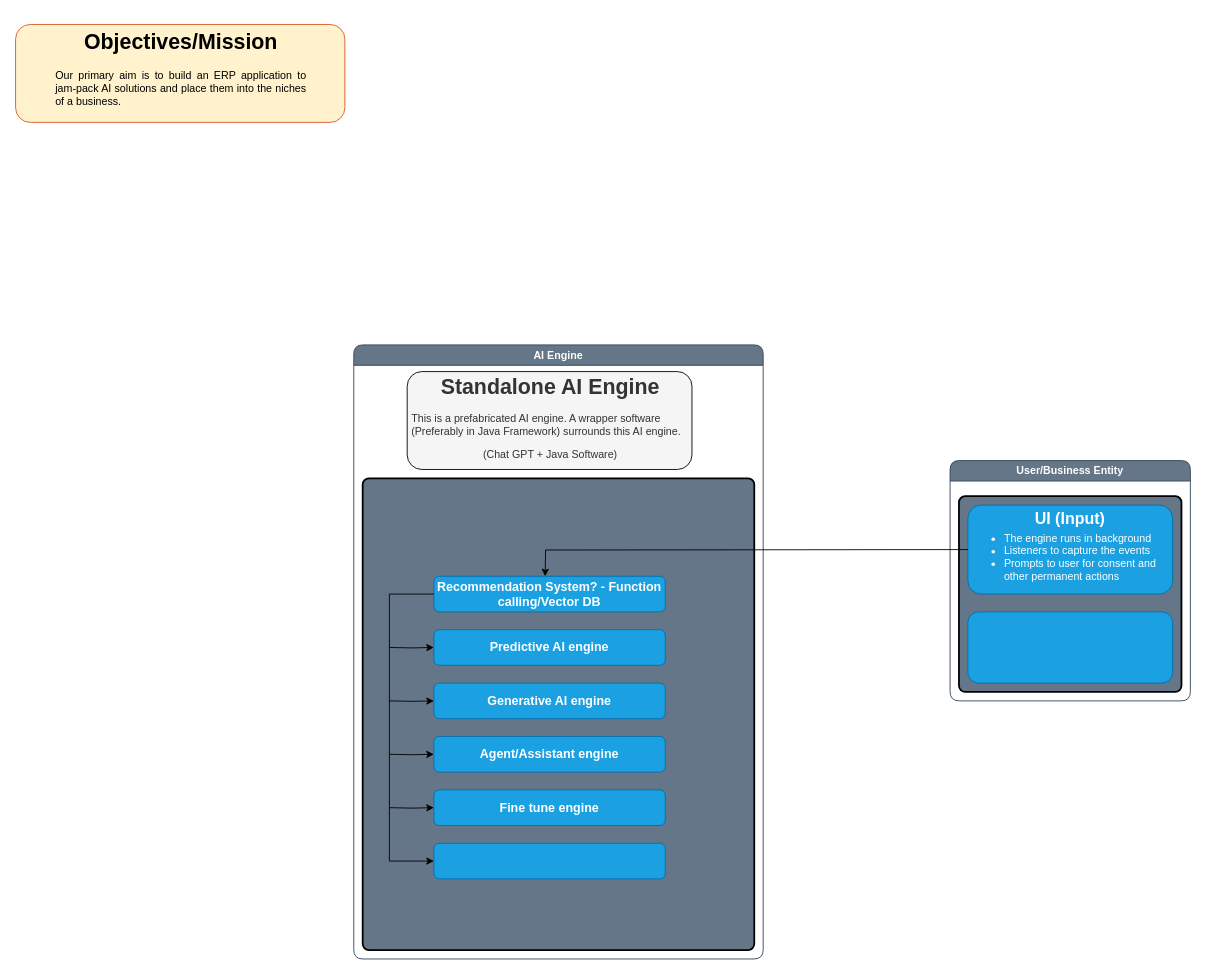
Image size: 1206x975. Some labels were removed from this diagram. Each missing label, with the centre of its shape:
"UI (Output) Text Voice Video" belongs at pixel 1070 647.
"Vector DB?" belongs at pixel 549 860.
